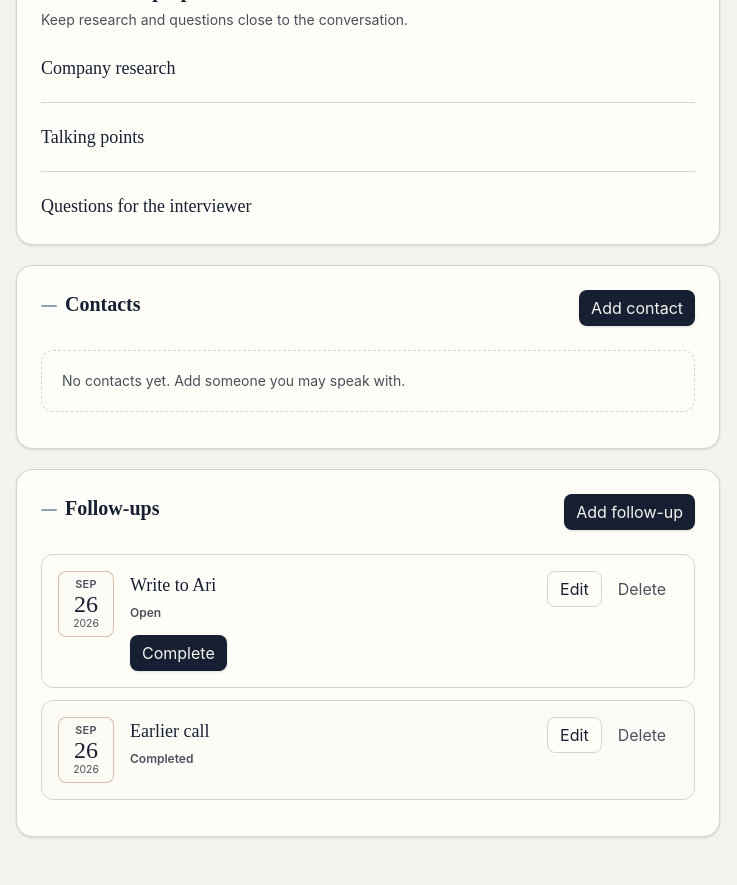
Test: follow-ups keep incomplete tasks first and make completion terminal
(page scrolled)
Expected: the list item "Sep 26 2026 Write to Ari Open Edit Delete Complete" is shown, [41,554,695,688]
Expected: the list item "Sep 26 2026 Earlier call Completed Edit Delete" is shown, [41,700,695,800]
Click the button with aria-label "Complete Write to Ari": (178,653) [130,635,227,671]
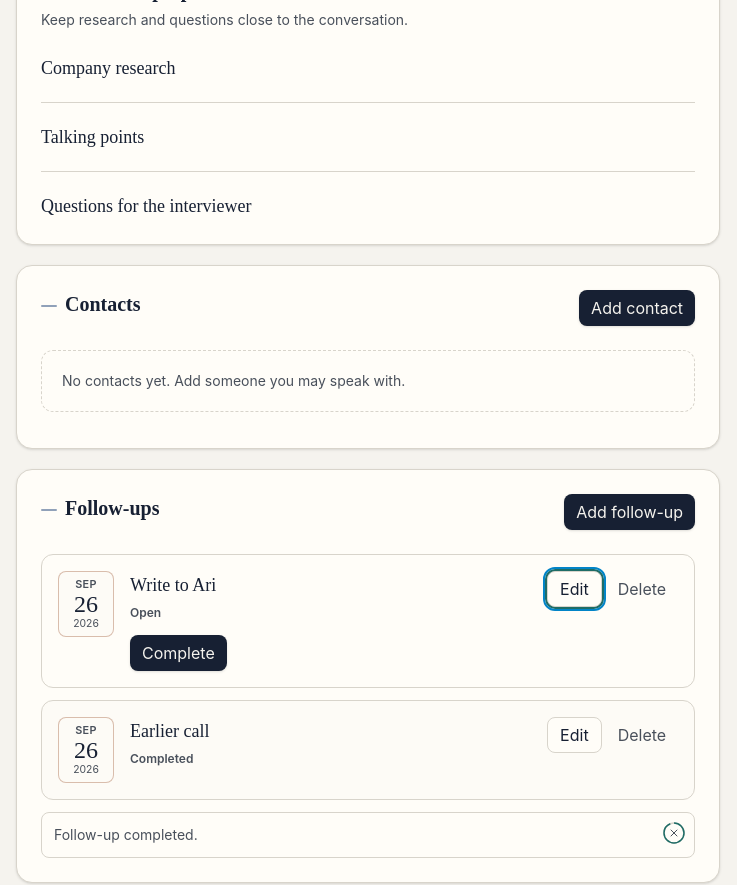
Now the text "Follow-up completed." is shown, box [54,826,198,843]
